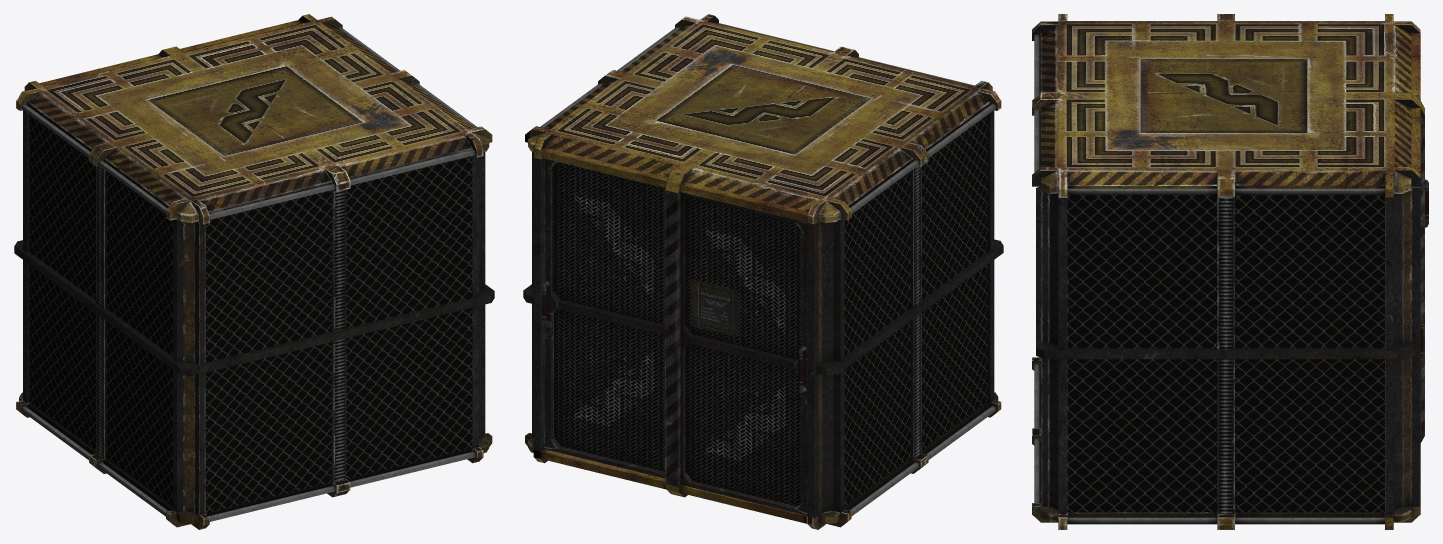
Rendered from Cage_Container.obj.
The picture shows the model from 3 angles, left to right: view 1: azimuth 30°, elevation 25°; view 2: azimuth 150°, elevation 25°; view 3: azimuth 270°, elevation 25°; orthographic projection. The views are drawn at different scales.
Visible parts, largest first — view 1: CageFence, CageContainer; view 2: CageContainer, CageFence; view 3: CageContainer, CageFence.
Part boxes in pixels (x1,y1,x2,y2): CageFence: [29, 115, 472, 513]; CageContainer: [14, 14, 494, 529]; CageContainer: [523, 14, 1003, 529]; CageFence: [844, 115, 987, 506]; CageContainer: [1032, 14, 1428, 529]; CageFence: [1067, 195, 1384, 512].
Bounding box in the file's own units: 5.22 × 5 × 5.11.
Materials: 2 (2 with a texture image).
